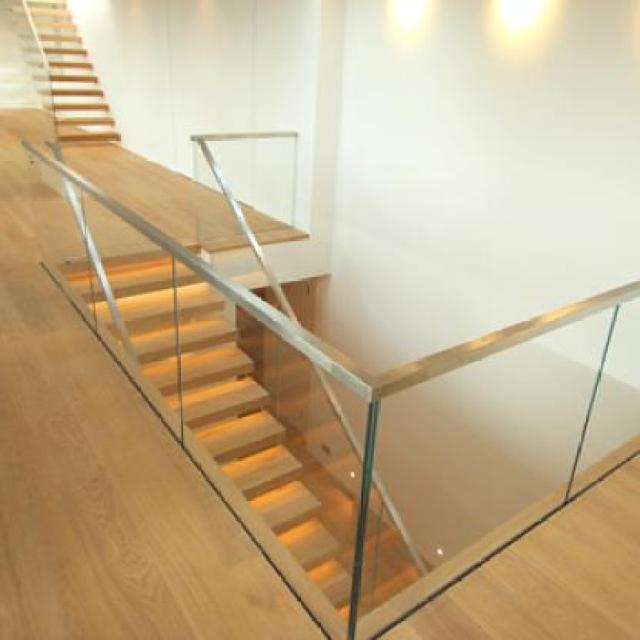stair: (35, 232, 472, 632), (1, 0, 152, 138)
